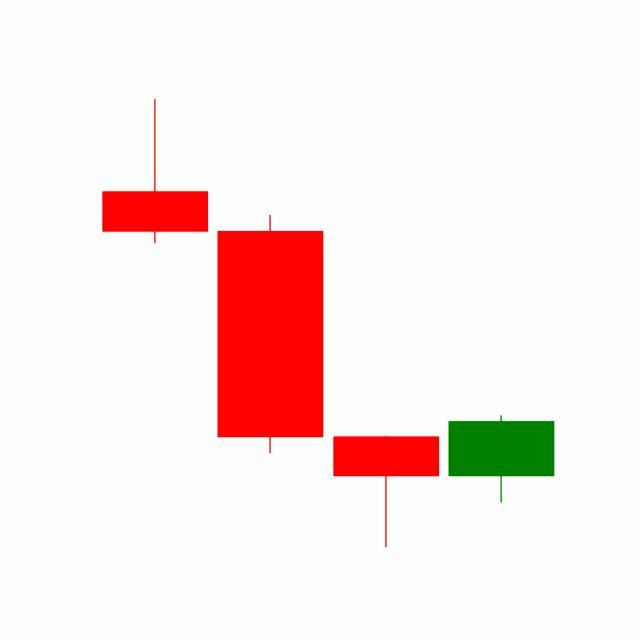Hammer: (329, 435, 445, 550)
